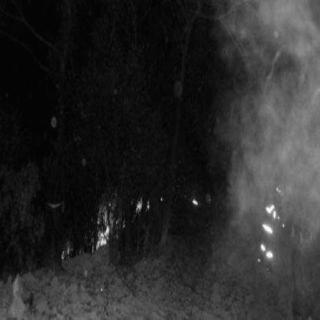Smoke: (262, 25, 312, 187)
